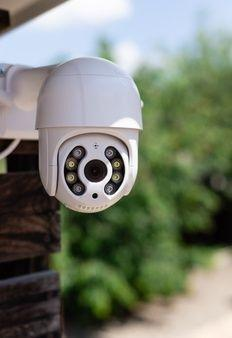CCTV: (0, 57, 143, 214)
